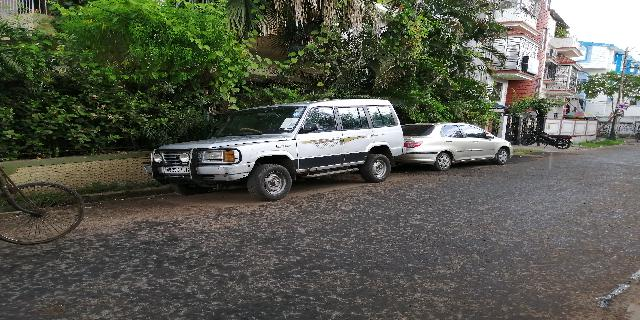Car: (146, 96, 406, 194), (410, 113, 514, 170)
